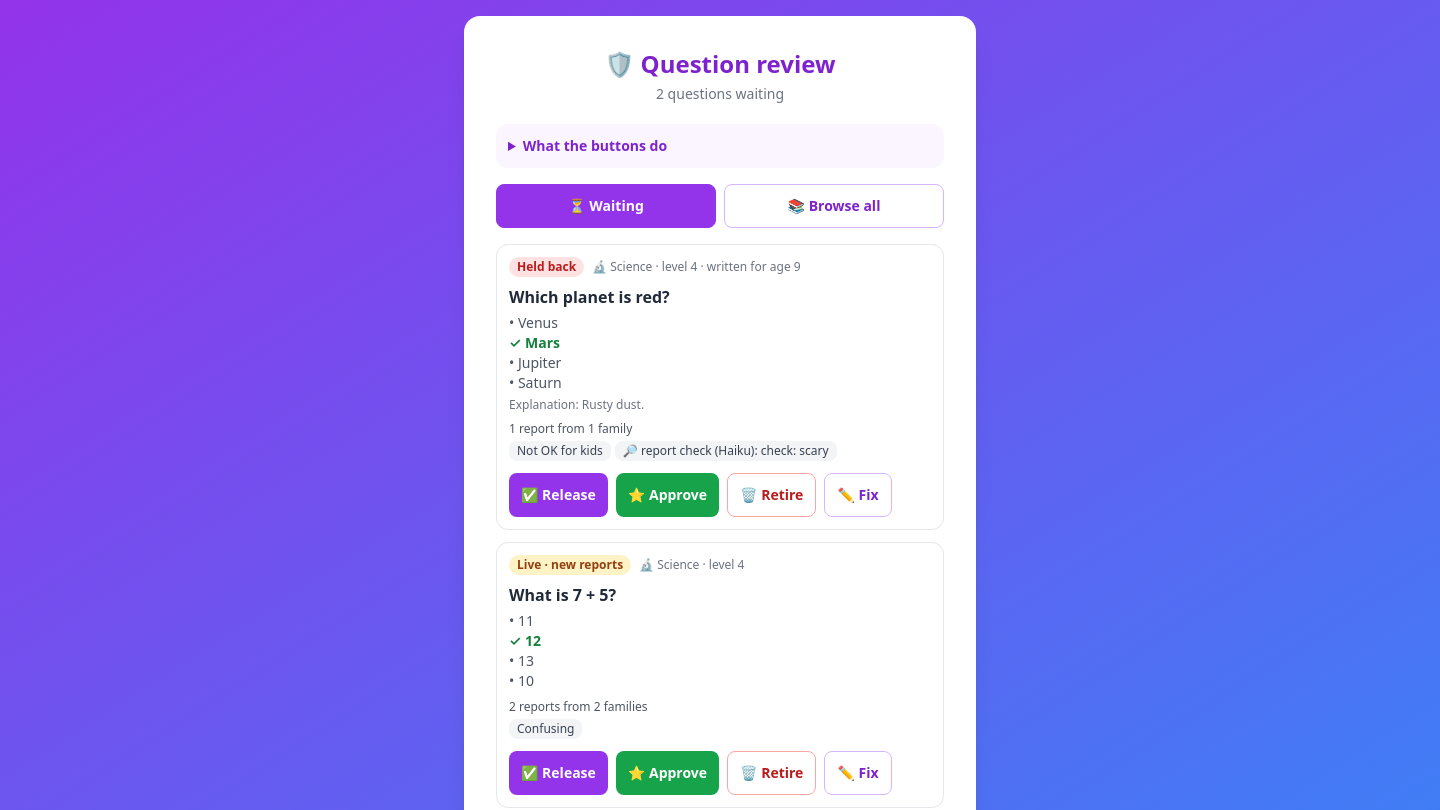
Test: QuestionReviewPage (#147) › Retire asks first; Cancel keeps it
Check: the text "2 questions waiting" is shown, box [656, 84, 784, 103]
Click the button "🗑️ Retire" below "Held back".
click(772, 495)  # box [727, 473, 816, 517]
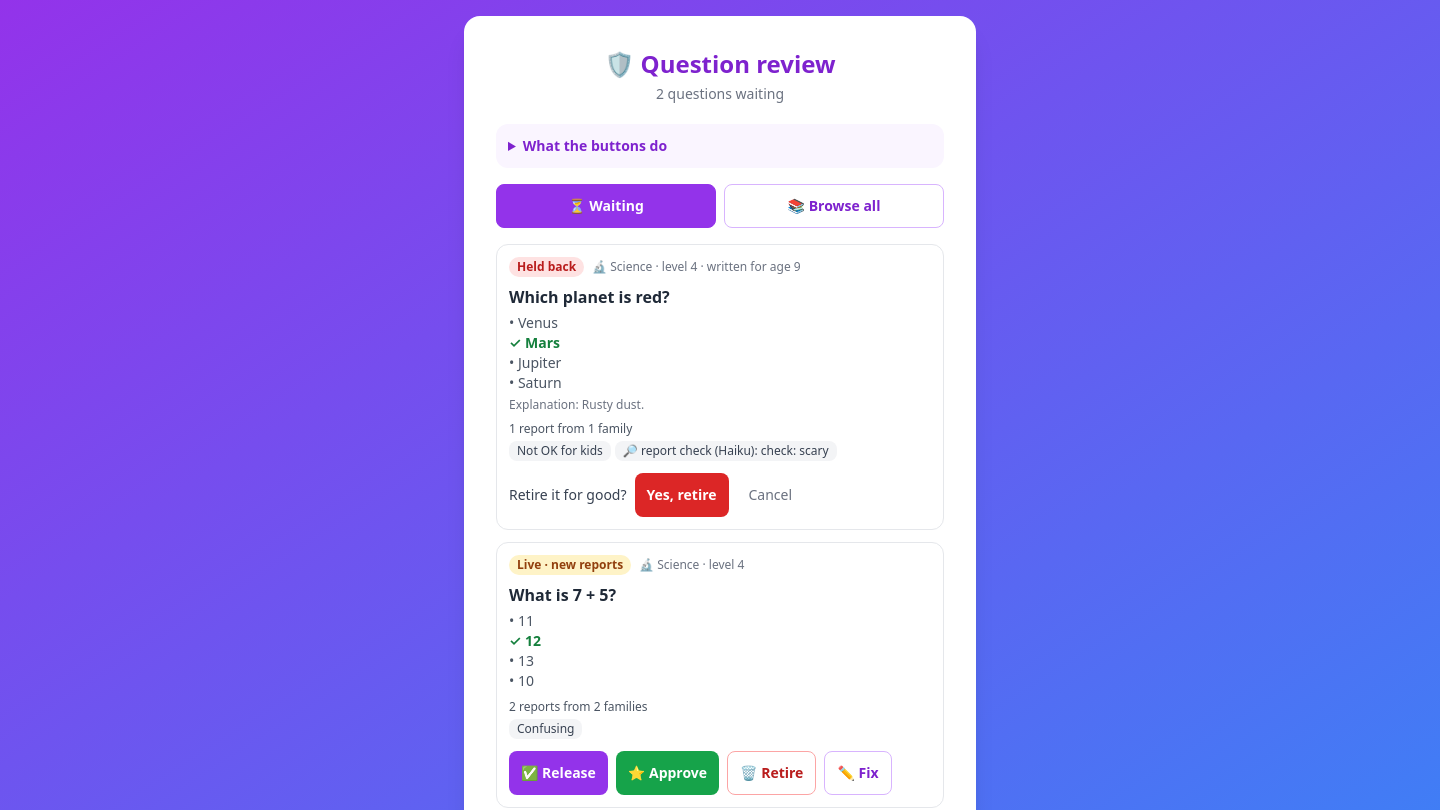
Check: the text "Retire it for good?" is shown, box [509, 485, 627, 505]
Click the button "Cancel".
click(770, 495)  # box [736, 473, 804, 517]
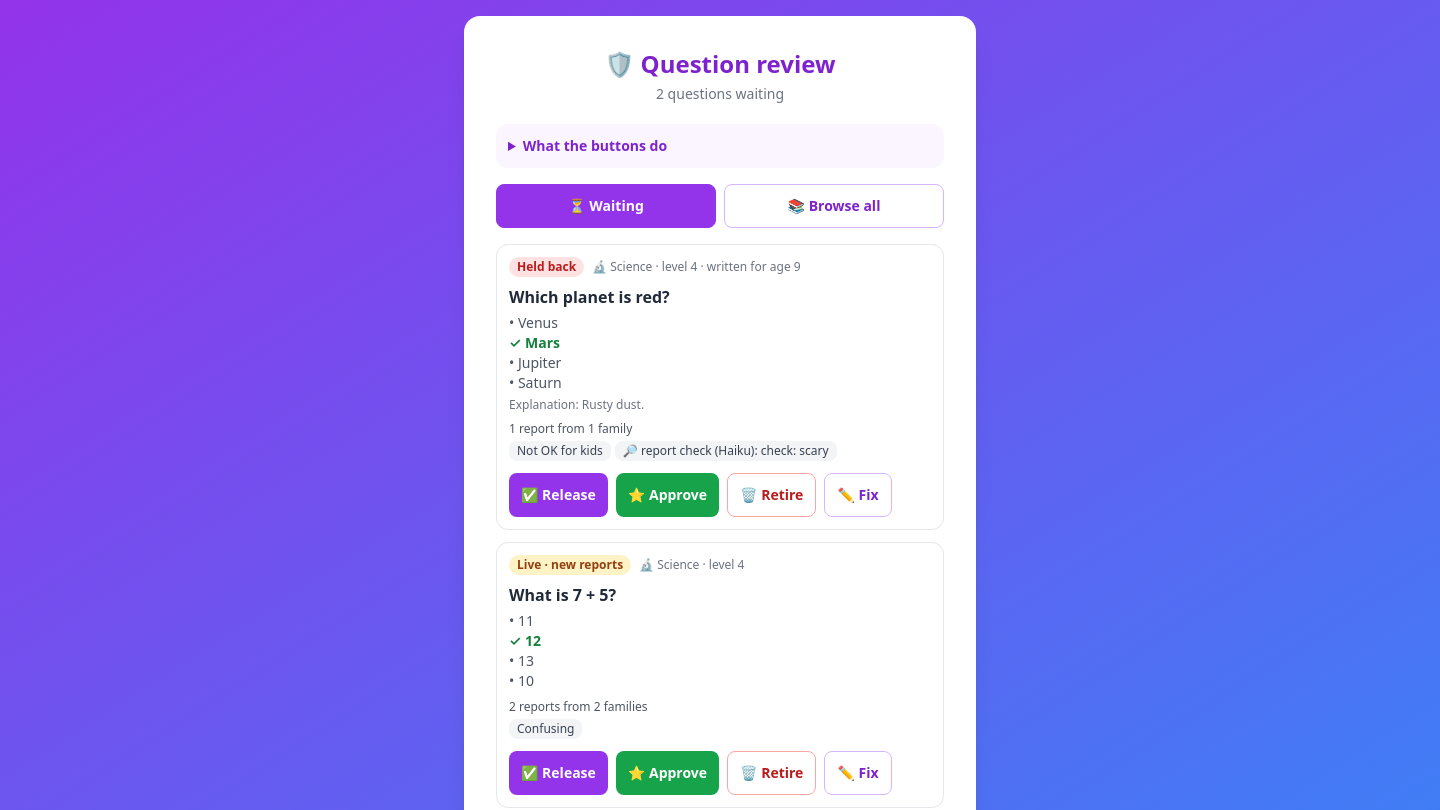
Click the button "🗑️ Retire" below "Held back".
click(772, 495)  # box [727, 473, 816, 517]
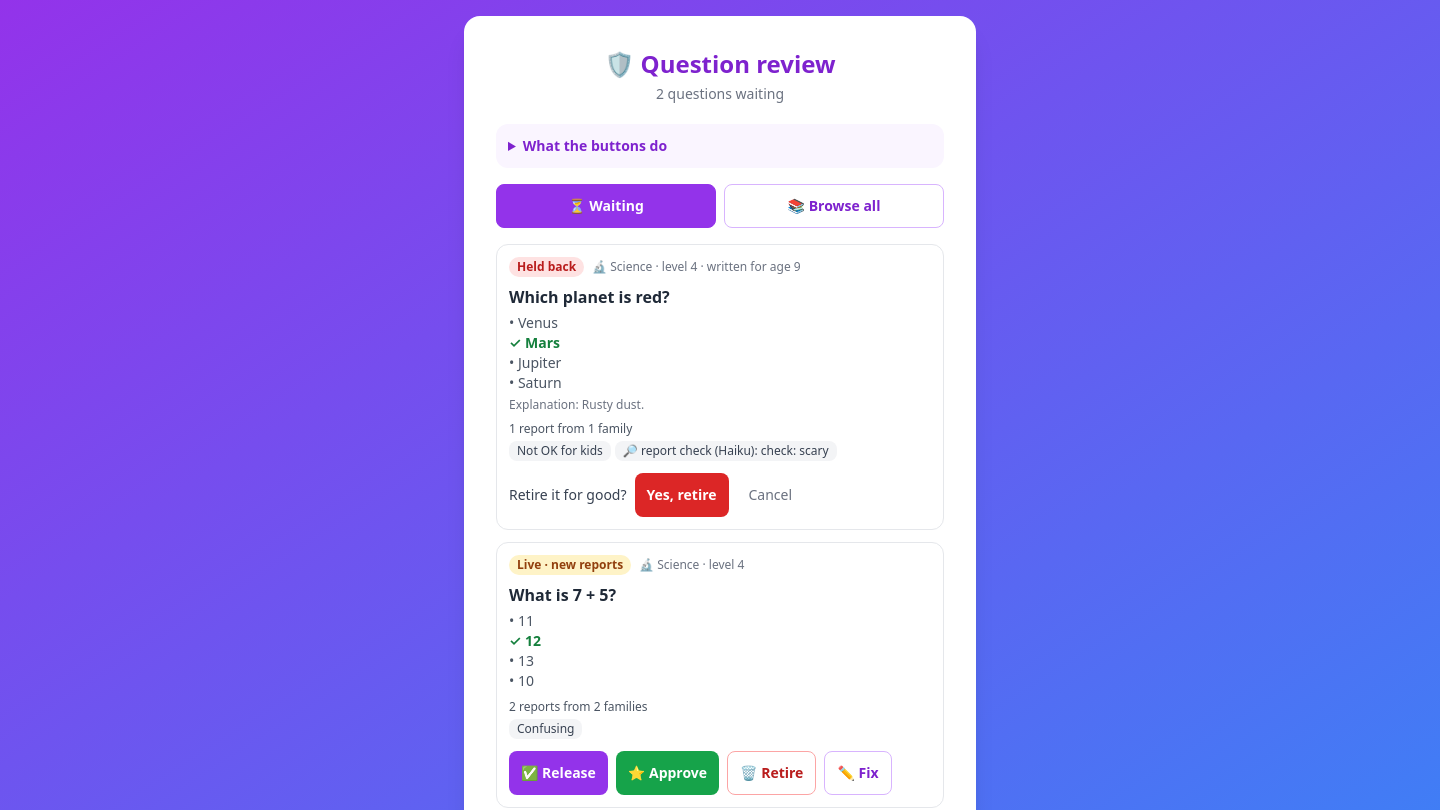
Click the button "Yes, retire".
click(682, 495)  # box [635, 473, 729, 517]
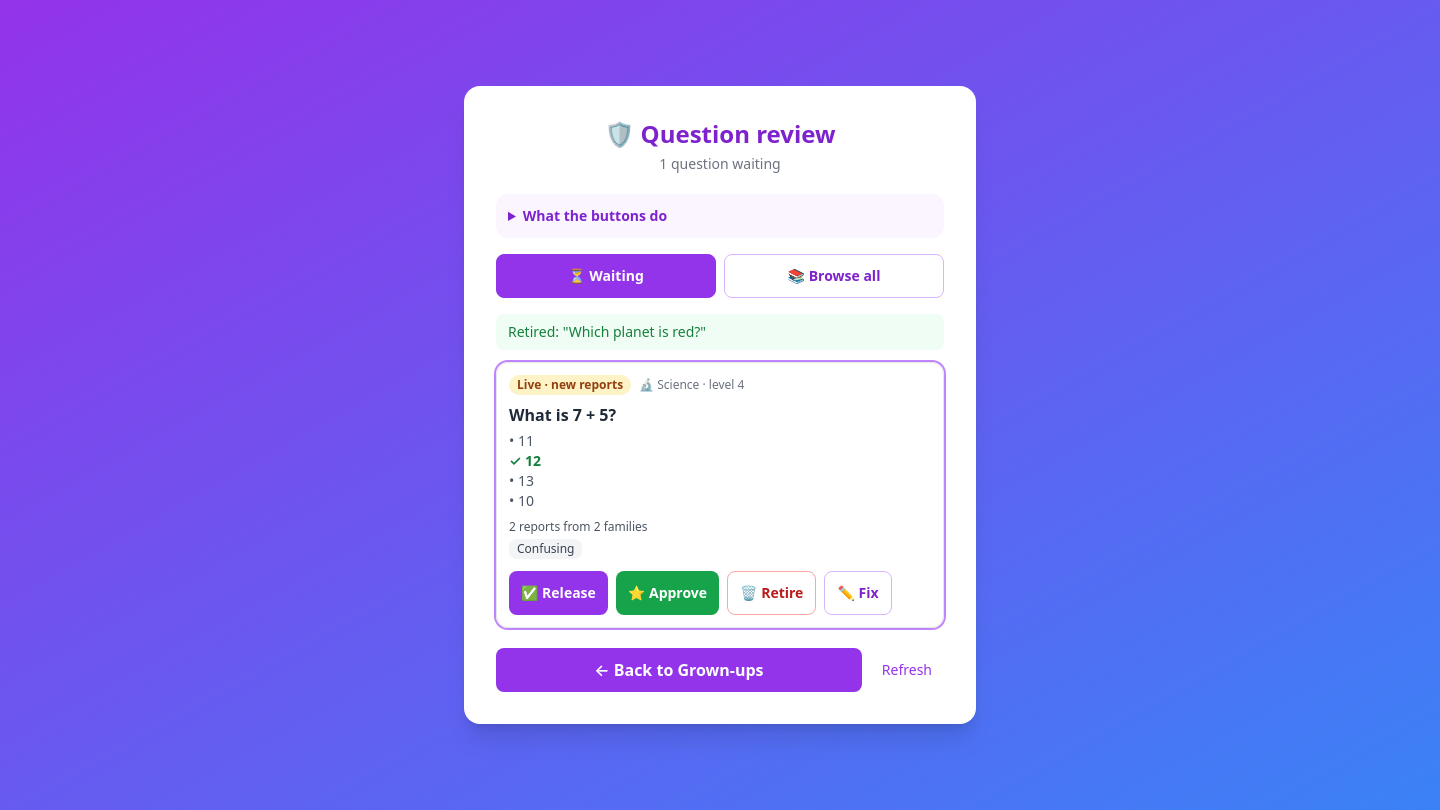
Check: the text "1 question waiting" is shown, box [659, 154, 781, 173]
